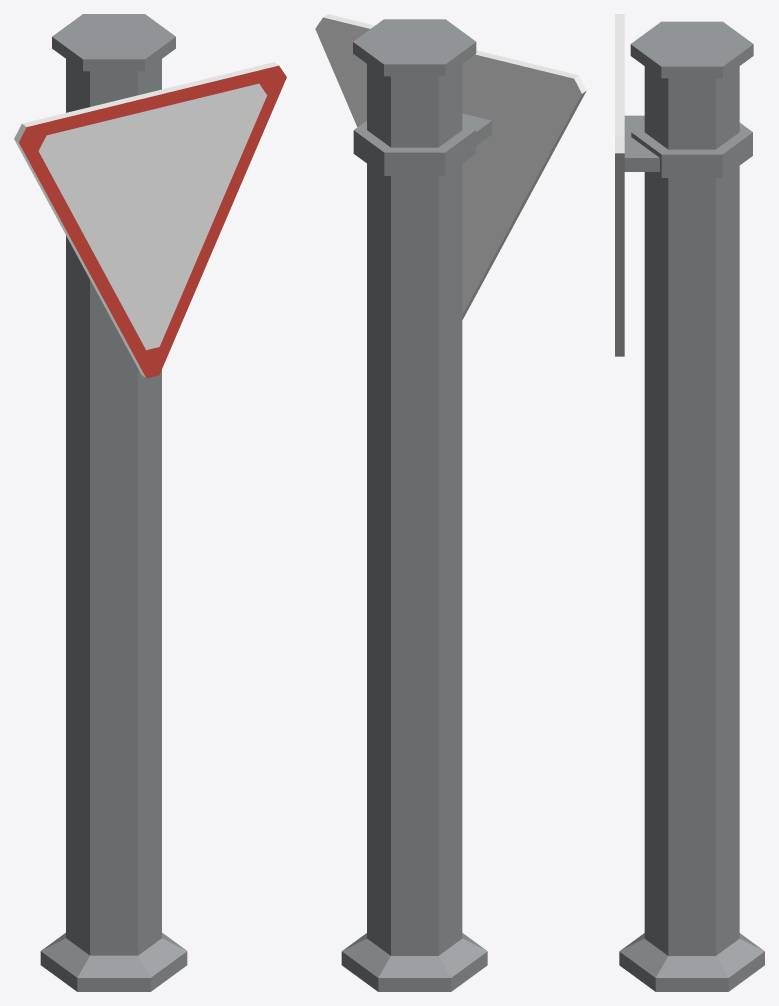
File: traffic_07.fbx
3 views of the same model, side by side, from view 1: azimuth 30°, elevation 25°; view 2: azimuth 150°, elevation 25°; view 3: azimuth 270°, elevation 25° (orthographic).
Parts seen in each view (by area): view 1: Cylinder.022, Plane; view 2: Cylinder.022, Plane; view 3: Cylinder.022, Plane, Cube.008.
Part boxes in pixels (box(x1,y1,x2,y2)): Cylinder.022: box(40, 14, 187, 991); Plane: box(14, 62, 286, 378); Cylinder.022: box(341, 19, 487, 991); Plane: box(315, 14, 586, 319); Cylinder.022: box(619, 21, 764, 991); Plane: box(615, 14, 624, 356); Cube.008: box(624, 115, 659, 171).
Size of the model in its own units: 81.03 by 268 by 39.52.
